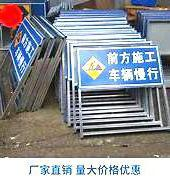sign: (75, 45, 164, 91), (8, 18, 43, 82)
